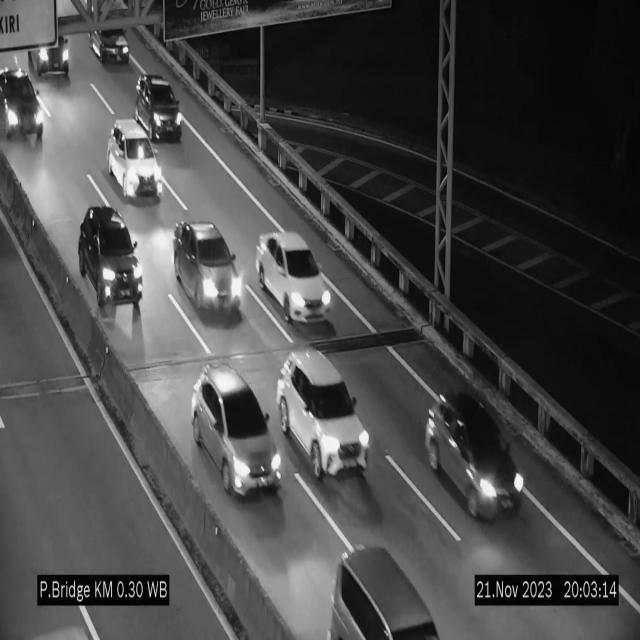Car: (305, 521, 453, 640), (425, 391, 525, 518), (276, 350, 371, 480), (192, 367, 282, 495), (78, 194, 148, 314), (172, 222, 248, 320), (256, 232, 332, 325), (107, 119, 163, 200), (0, 70, 50, 145), (25, 11, 78, 81), (136, 73, 182, 142), (88, 3, 136, 65)
